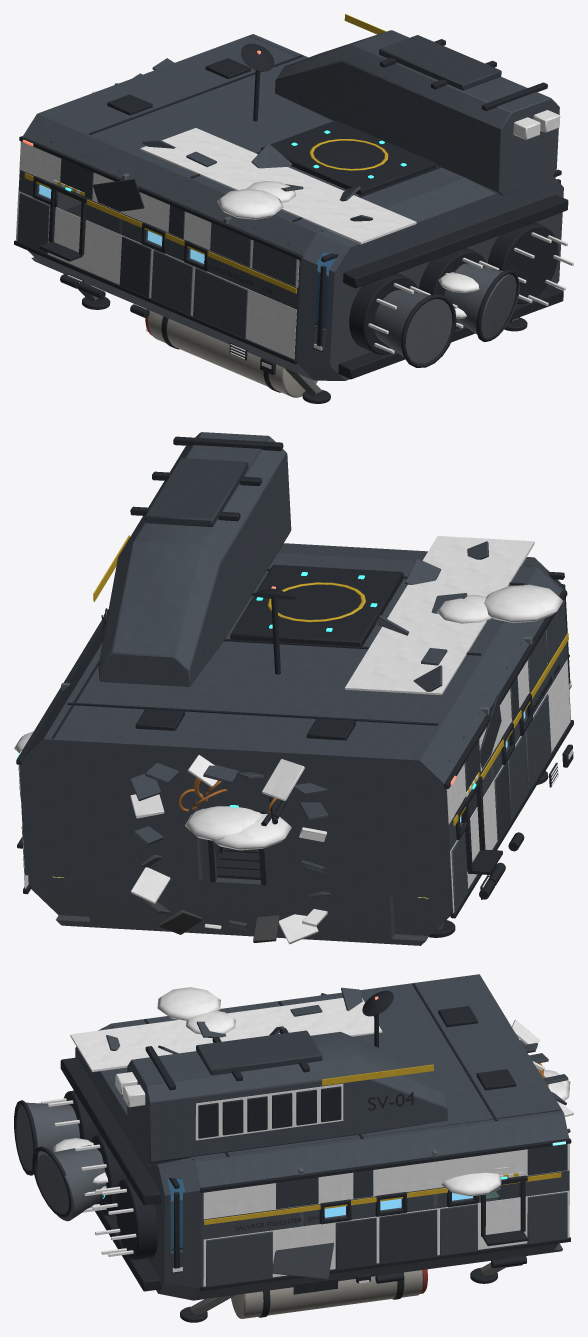
The model's file is sv04_aft.glb.
3 views of the same model, one above another, from view 1: azimuth 30°, elevation 25°; view 2: azimuth 150°, elevation 25°; view 3: azimuth 270°, elevation 25° (orthographic). The views are drawn at different scales.
Parts seen in each view (by area): view 1: sv04_aft; view 2: sv04_aft; view 3: sv04_aft.
Part boxes in pixels (x1=…): sv04_aft: x1=14, y1=14, x2=573, y2=403; sv04_aft: x1=14, y1=432, x2=573, y2=945; sv04_aft: x1=14, y1=974, x2=573, y2=1322.
Size of what is drawn, in the model's own units: 19.44 by 12.98 by 24.11.
66 materials, 50 textured.
